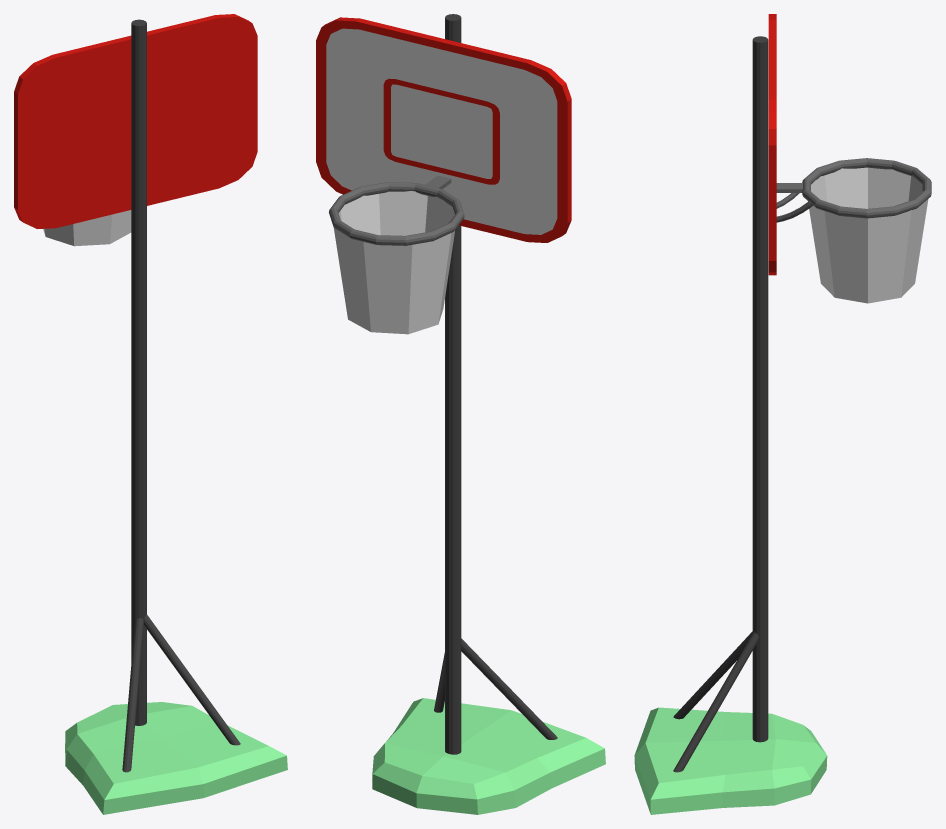
File: Canasta.fbx
3 renders of one model, left to right at view 1: azimuth 30°, elevation 25°; view 2: azimuth 150°, elevation 25°; view 3: azimuth 270°, elevation 25°, orthographic. The views are drawn at different scales.
Parts seen in each view (by area): view 1: Cube.001, Cylinder.002; view 2: Cube.001, Cylinder.002; view 3: Cube.001, Cylinder.002.
Part boxes in pixels (box(x1,y1,x2,y2)): Cube.001: box(14, 14, 287, 814); Cylinder.002: box(43, 210, 131, 246); Cube.001: box(316, 14, 605, 814); Cylinder.002: box(333, 191, 454, 334); Cube.001: box(634, 14, 931, 814); Cylinder.002: box(808, 167, 928, 303).
Size of the model in its own units: 1.29 by 1.38 by 3.75.
